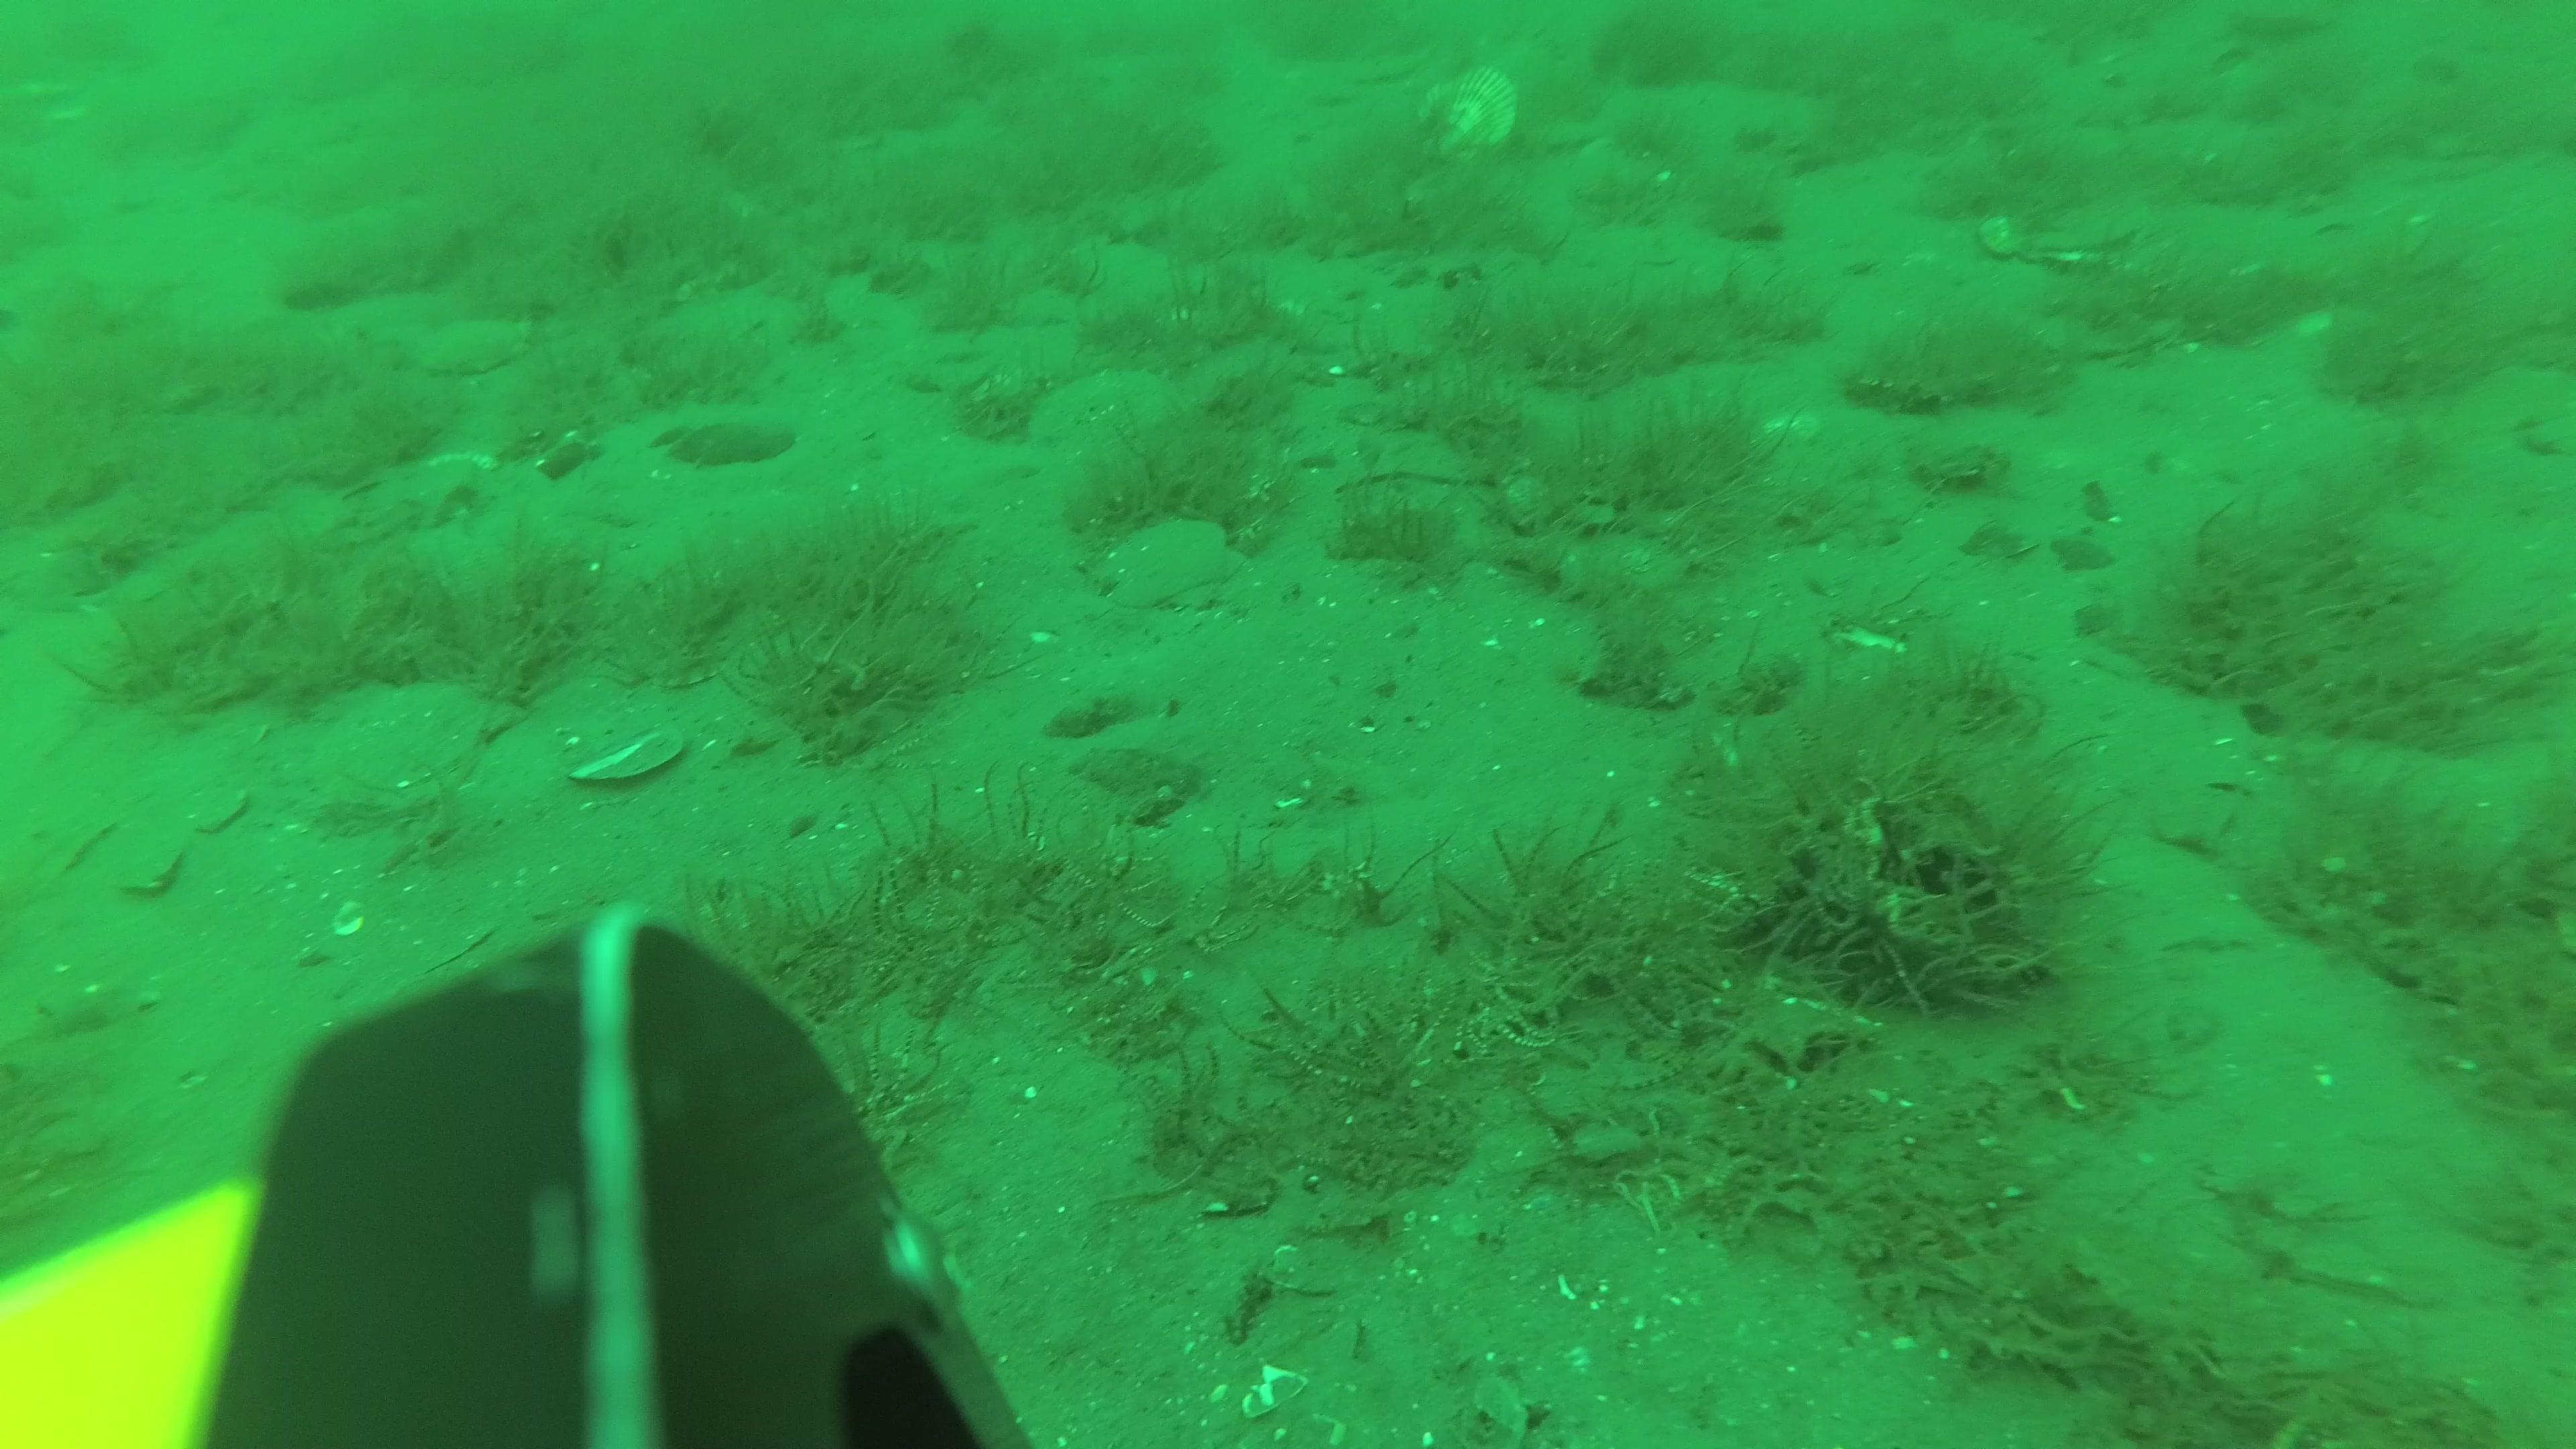scallop: (322, 685, 513, 782), (1092, 518, 1249, 602), (1990, 195, 2157, 264), (1422, 73, 1514, 166), (416, 318, 529, 373)
